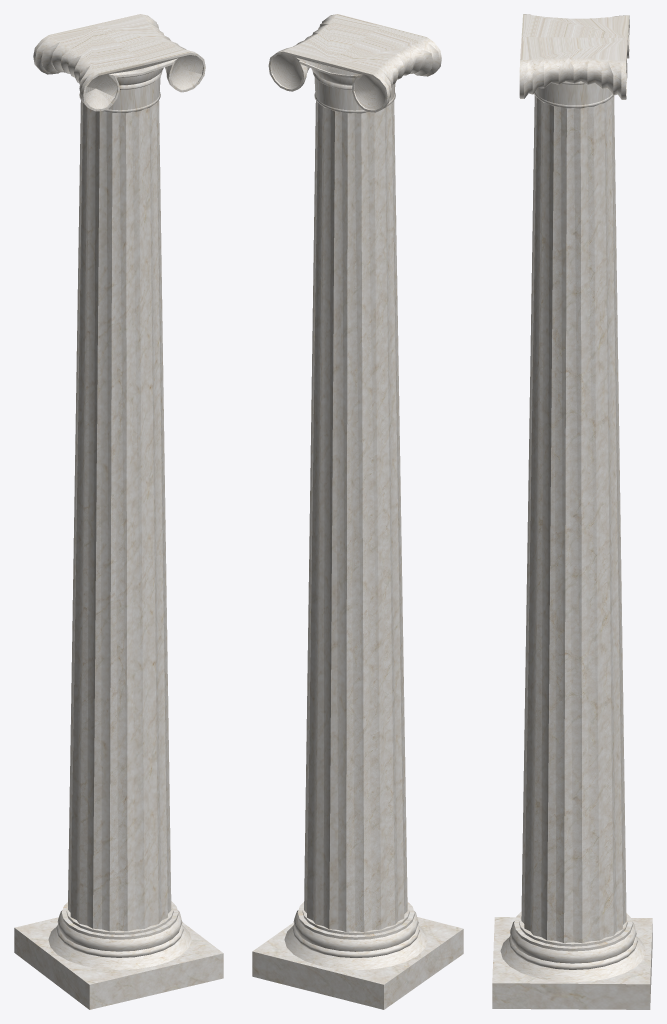
The model's file is corinthiancolumn.glb.
The picture shows the model from 3 angles, left to right: view 1: azimuth 30°, elevation 25°; view 2: azimuth 150°, elevation 25°; view 3: azimuth 270°, elevation 25°; orthographic projection. The views are drawn at different scales.
Parts seen in each view (by area): view 1: CorinthianColumn; view 2: CorinthianColumn; view 3: CorinthianColumn.
Part boxes in pixels (x1,y1,x2,y2): CorinthianColumn: (14,14,223,1009); CorinthianColumn: (252,14,463,1009); CorinthianColumn: (492,14,652,1009).
Size of the model in its own units: 0.9419 by 6.13 by 0.9492.
Materials: 1 (1 with a texture image).
